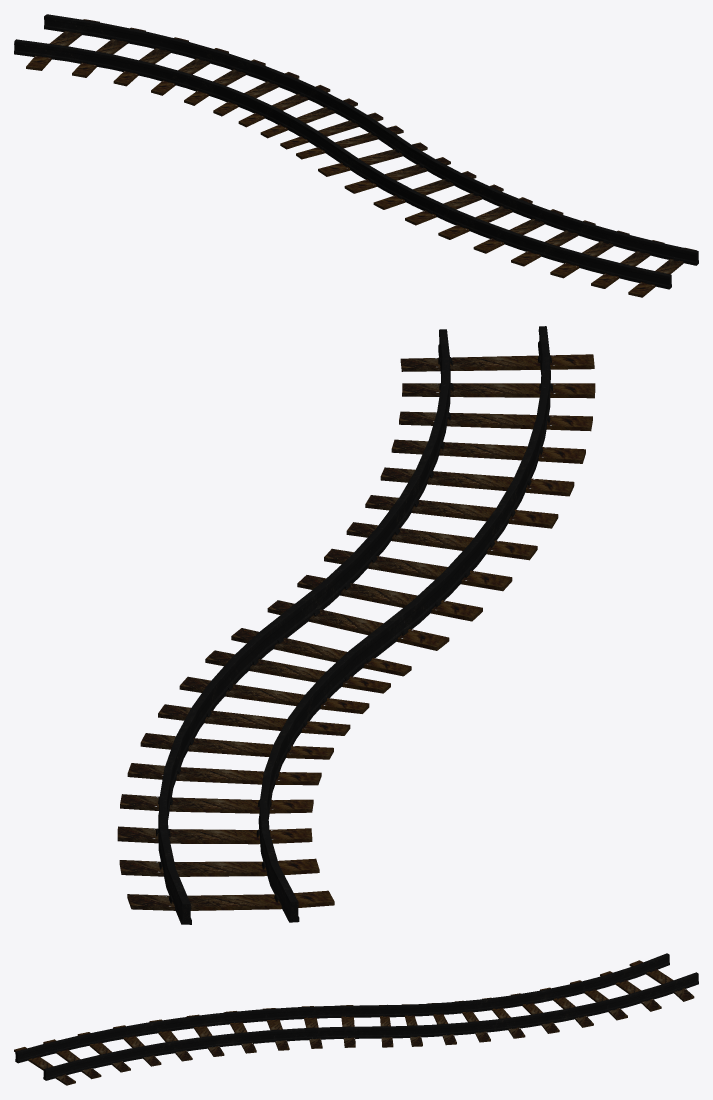
Rendered from track_sbend.obj.
3 renders of one model, top to bottom at view 1: azimuth 30°, elevation 25°; view 2: azimuth 150°, elevation 25°; view 3: azimuth 270°, elevation 25°, orthographic. The views are drawn at different scales.
Visible parts, largest first — view 1: Track_01polySurface161_lambert1_0.820, Track_01polySurface161_lambert1_0.293, Track_01polySurface161_lambert1_0.575, Track_01polySurface161_lambert1_0.538, Track_01polySurface161_lambert1_0.296, Track_01polySurface161_lambert1_0.822, Track_01polySurface161_lambert1_0.541, Track_01polySurface161_lambert1_0.577, Track_01polySurface161_lambert1_0.816, Track_01polySurface161_lambert1_0.289, Track_01polySurface161_lambert1_0.571, Track_01polySurface161_lambert1_0.534 (+18 smaller); view 2: Track_01polySurface161_lambert1_0.293, Track_01polySurface161_lambert1_0.538, Track_01polySurface161_lambert1_0.296, Track_01polySurface161_lambert1_0.822, Track_01polySurface161_lambert1_0.541, Track_01polySurface161_lambert1_0.577, Track_01polySurface161_lambert1_0.762, Track_01polySurface161_lambert1_0.820, Track_01polySurface161_lambert1_0.736, Track_01polySurface161_lambert1_0.710, Track_01polySurface161_lambert1_0.506, Track_01polySurface161_lambert1_0.543 (+16 smaller); view 3: Track_01polySurface161_lambert1_0.292, Track_01polySurface161_lambert1_0.819, Track_01polySurface161_lambert1_0.537, Track_01polySurface161_lambert1_0.574, Track_01polySurface161_lambert1_0.296, Track_01polySurface161_lambert1_0.822, Track_01polySurface161_lambert1_0.288, Track_01polySurface161_lambert1_0.541, Track_01polySurface161_lambert1_0.815, Track_01polySurface161_lambert1_0.533, Track_01polySurface161_lambert1_0.577, Track_01polySurface161_lambert1_0.570 (+21 smaller).
Boxes of the visible parts, x1,y1,x2,y2 form: Track_01polySurface161_lambert1_0.820: (44,16,385,138); Track_01polySurface161_lambert1_0.293: (331,144,669,285); Track_01polySurface161_lambert1_0.575: (14,41,331,152); Track_01polySurface161_lambert1_0.538: (385,131,696,261); Track_01polySurface161_lambert1_0.296: (332,142,670,275); Track_01polySurface161_lambert1_0.822: (45,14,388,129); Track_01polySurface161_lambert1_0.541: (385,129,697,252); Track_01polySurface161_lambert1_0.577: (15,39,334,143); Track_01polySurface161_lambert1_0.816: (44,26,384,143); Track_01polySurface161_lambert1_0.289: (331,154,669,289); Track_01polySurface161_lambert1_0.571: (14,51,330,156); Track_01polySurface161_lambert1_0.534: (384,141,696,265); Track_01polySurface161_lambert1_0.293: (381,329,550,646); Track_01polySurface161_lambert1_0.538: (294,331,449,624); Track_01polySurface161_lambert1_0.296: (375,326,549,631); Track_01polySurface161_lambert1_0.822: (159,609,292,903); Track_01polySurface161_lambert1_0.541: (288,329,448,610); Track_01polySurface161_lambert1_0.577: (259,630,379,901); Track_01polySurface161_lambert1_0.762: (127,890,334,906); Track_01polySurface161_lambert1_0.820: (167,611,294,864); Track_01polySurface161_lambert1_0.736: (119,858,319,872); Track_01polySurface161_lambert1_0.710: (117,826,312,840); Track_01polySurface161_lambert1_0.506: (402,383,595,394); Track_01polySurface161_lambert1_0.543: (401,354,594,367); Track_01polySurface161_lambert1_0.292: (17,1007,370,1059); Track_01polySurface161_lambert1_0.819: (370,974,698,1035); Track_01polySurface161_lambert1_0.537: (46,1028,370,1077); Track_01polySurface161_lambert1_0.574: (370,954,669,1014); Track_01polySurface161_lambert1_0.296: (16,1005,370,1052); Track_01polySurface161_lambert1_0.822: (371,972,698,1027); Track_01polySurface161_lambert1_0.288: (18,1015,370,1063); Track_01polySurface161_lambert1_0.541: (44,1026,370,1070); Track_01polySurface161_lambert1_0.815: (370,982,698,1038); Track_01polySurface161_lambert1_0.533: (46,1036,370,1080); Track_01polySurface161_lambert1_0.577: (370,953,668,1006); Track_01polySurface161_lambert1_0.570: (370,963,669,1017).
Size of the model in its own units: 121 by 5.12 by 284.
Materials: 1 (1 with a texture image).
